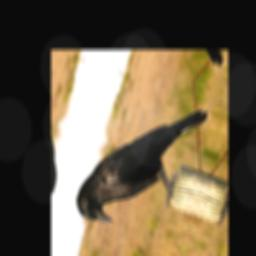Crow: (72, 74, 210, 249)
